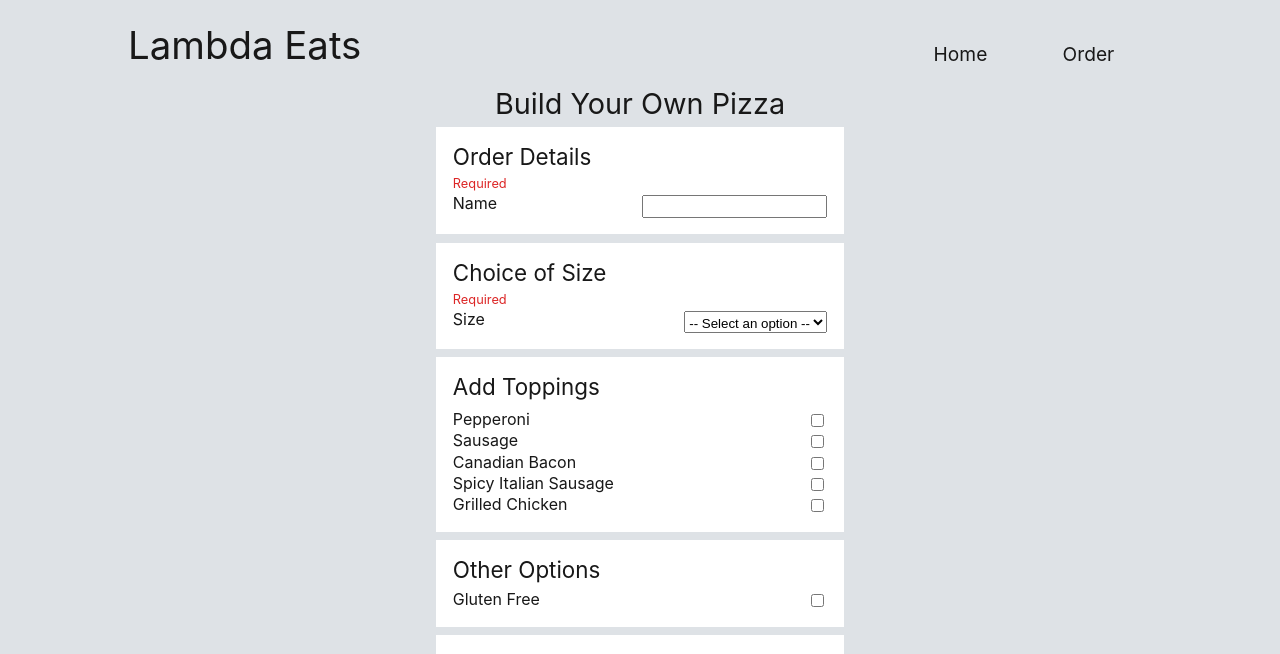
it: Order Form › Validating form input › should require a size choice
Select "Small" in the dropdown named "size". click: (756, 322)
box: [684,311,827,332]
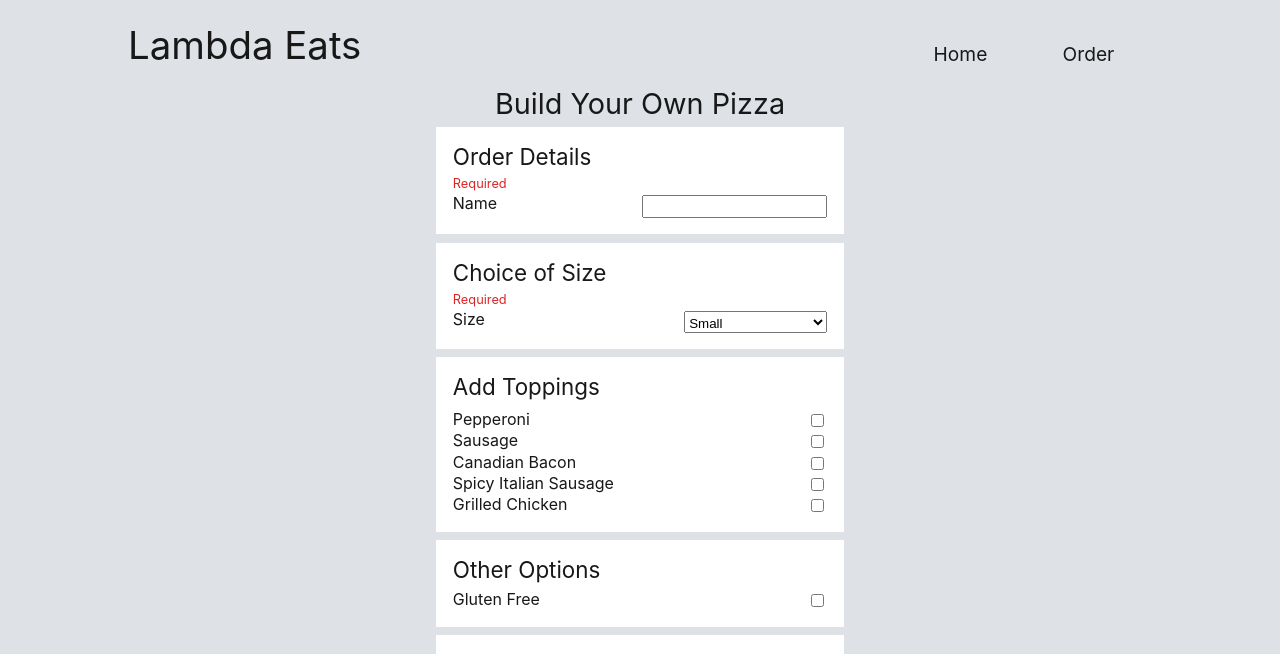
Select "-- Select an option --" in the dropdown named "size". click: (756, 322)
box: [684,311,827,332]
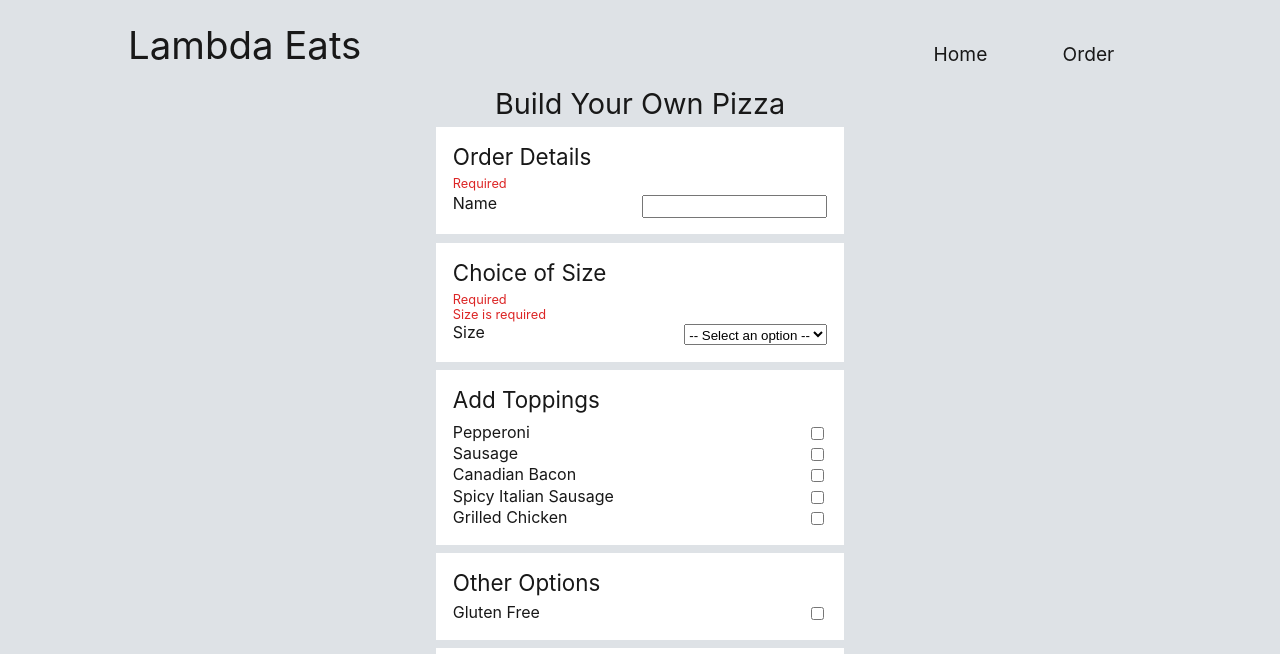
Check: the text with id "errors-size" reads "Size is required", box [453,307,546,322]
